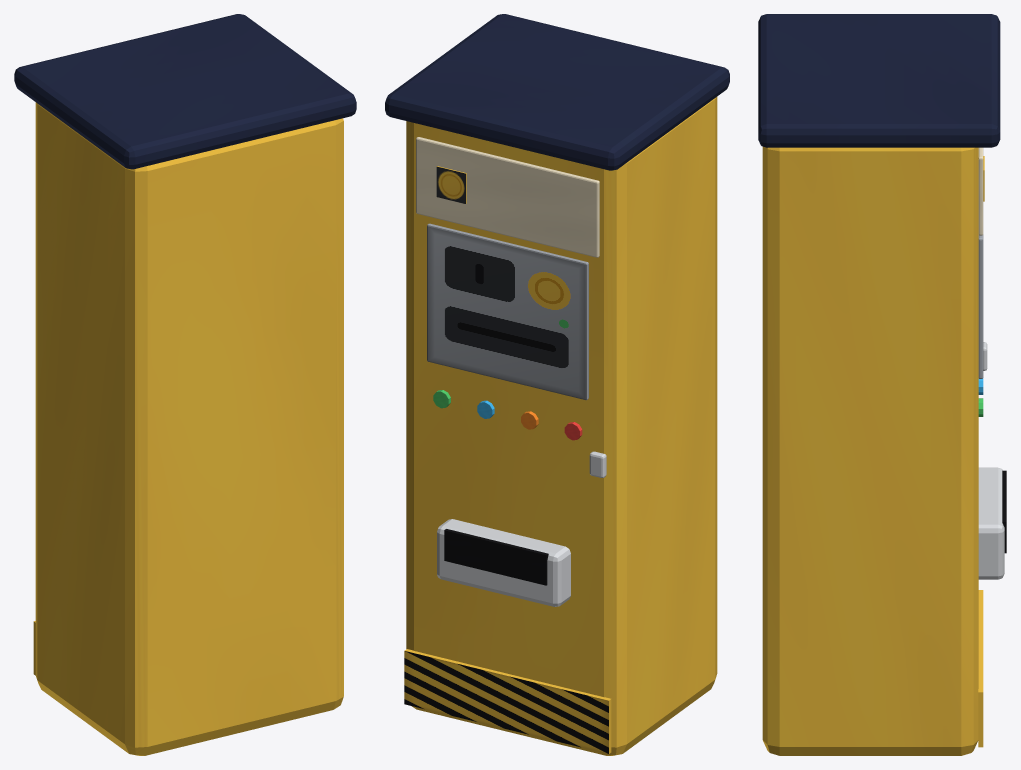
The model's file is SW_CoinChanger.glb.
3 views of the same model, side by side, from view 1: azimuth 30°, elevation 25°; view 2: azimuth 150°, elevation 25°; view 3: azimuth 270°, elevation 25° (orthographic). The views are drawn at different scales.
Parts seen in each view (by area): view 1: Body; view 2: Body; view 3: Body.
Part boxes in pixels (x1,y1,x2,y2): Body: (14, 14, 356, 755); Body: (385, 14, 729, 755); Body: (758, 14, 1006, 755).
Bounding box in the file's own units: 0.64 × 1.63 × 0.575.
Materials: 2 (1 with a texture image).
